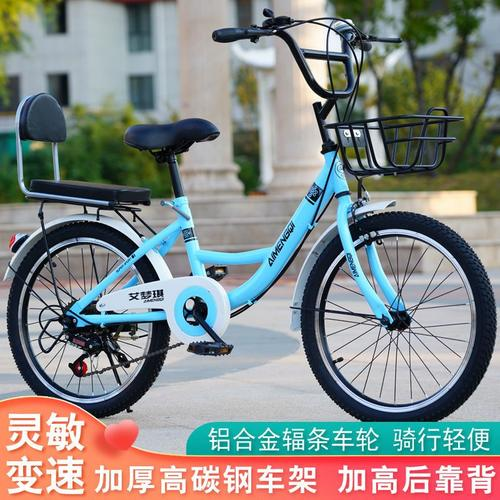单车: (4, 10, 500, 421)
